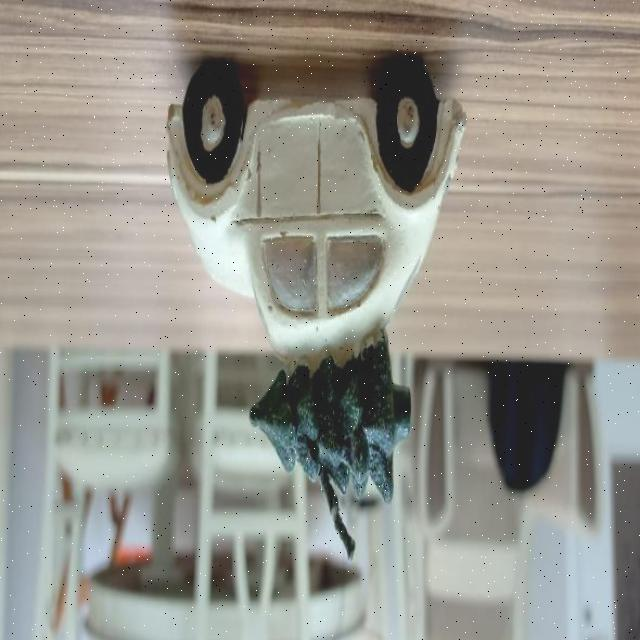car: (145, 67, 462, 356)
